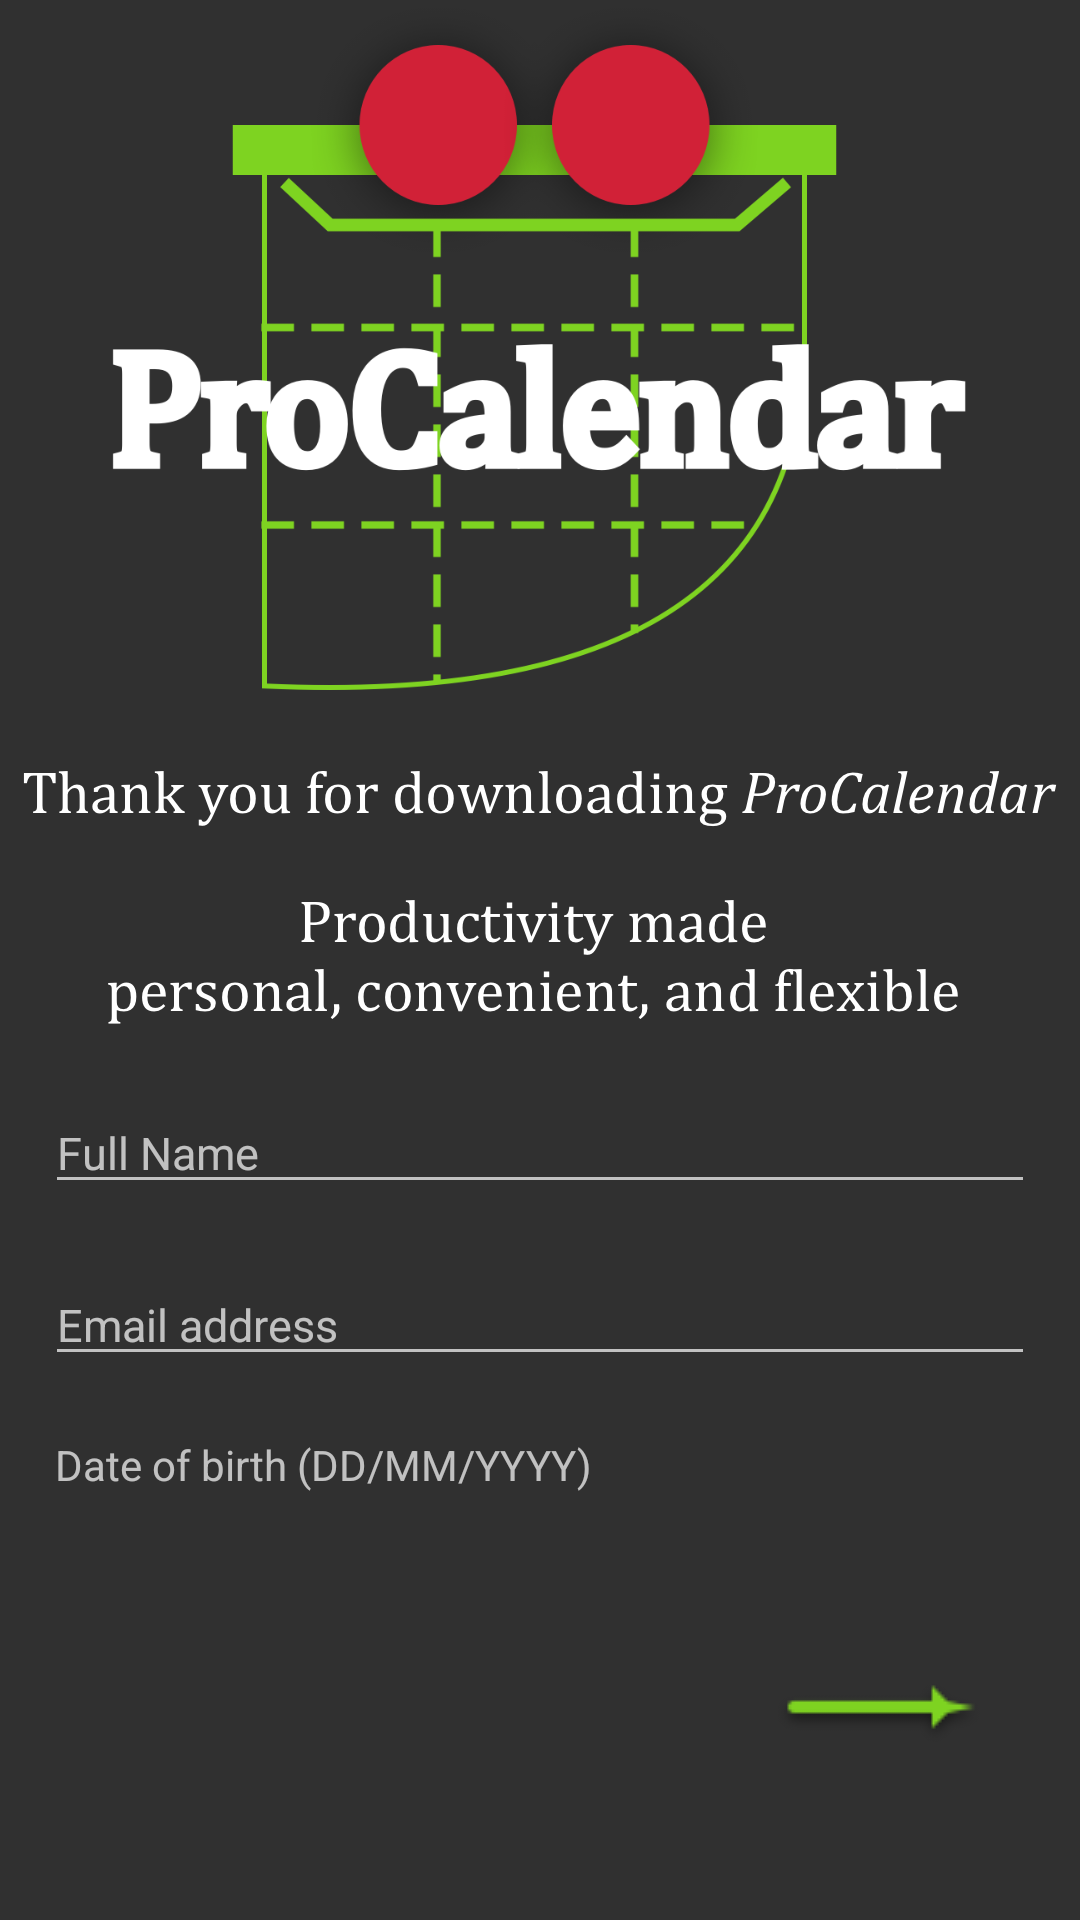

Screen size 1080px x 1920px. Icon name, then its center in pixels as point (x, y):
next page: point (879, 1706)
